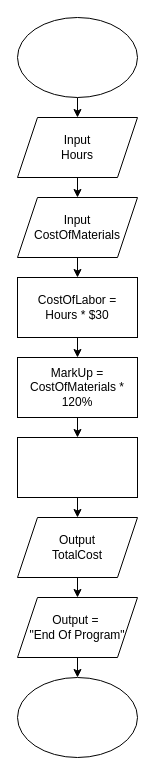
Some shapes in this 155 by 775 pixel diagram are drawn without their labels. Here are the shapes that lost their labels. From the top down, the centre of each, then its label:
At point (77, 57): "Start".
At point (77, 467): "TotalCost = CostOfLabor + MarkUp".
At point (77, 717): "Stop".
